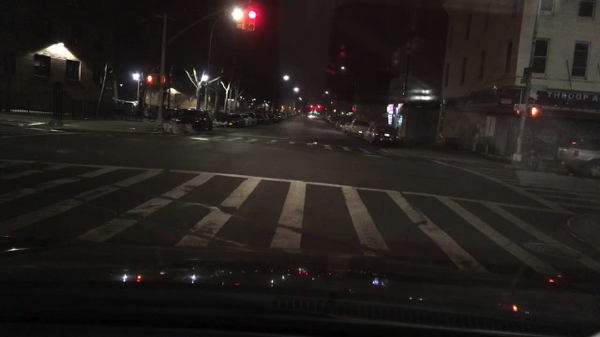car: (558, 134, 599, 179), (365, 125, 400, 148), (176, 110, 213, 131), (146, 103, 178, 119), (222, 112, 246, 129), (347, 119, 370, 136), (119, 101, 136, 116), (243, 112, 259, 127), (360, 125, 374, 142), (254, 113, 269, 126), (238, 113, 253, 126), (199, 107, 213, 118), (334, 120, 345, 132), (341, 122, 352, 134), (329, 115, 342, 125), (216, 110, 226, 123), (113, 100, 122, 114), (267, 113, 279, 123), (273, 111, 286, 120), (324, 115, 333, 123), (307, 113, 316, 119), (286, 112, 293, 118), (180, 108, 189, 112), (318, 114, 323, 120), (189, 107, 197, 110), (324, 115, 328, 118)
motor: (526, 149, 539, 170)
person: (532, 134, 544, 166)
traffic light: (231, 8, 244, 30), (246, 8, 256, 31), (529, 107, 543, 117), (147, 74, 156, 83), (516, 109, 520, 116)
traffic sign: (523, 67, 532, 80), (513, 103, 526, 111), (519, 79, 531, 84)
